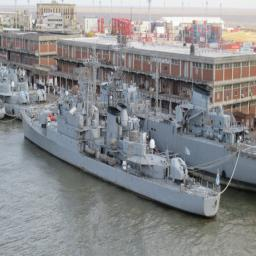Fragata: (19, 50, 224, 224)
